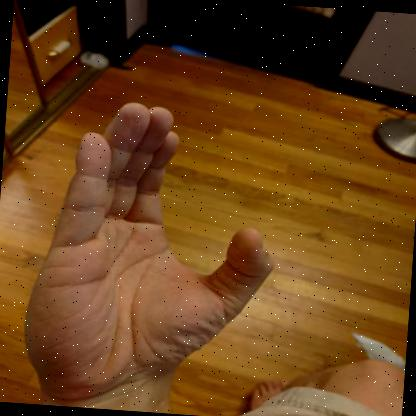C: (24, 102, 275, 405)
